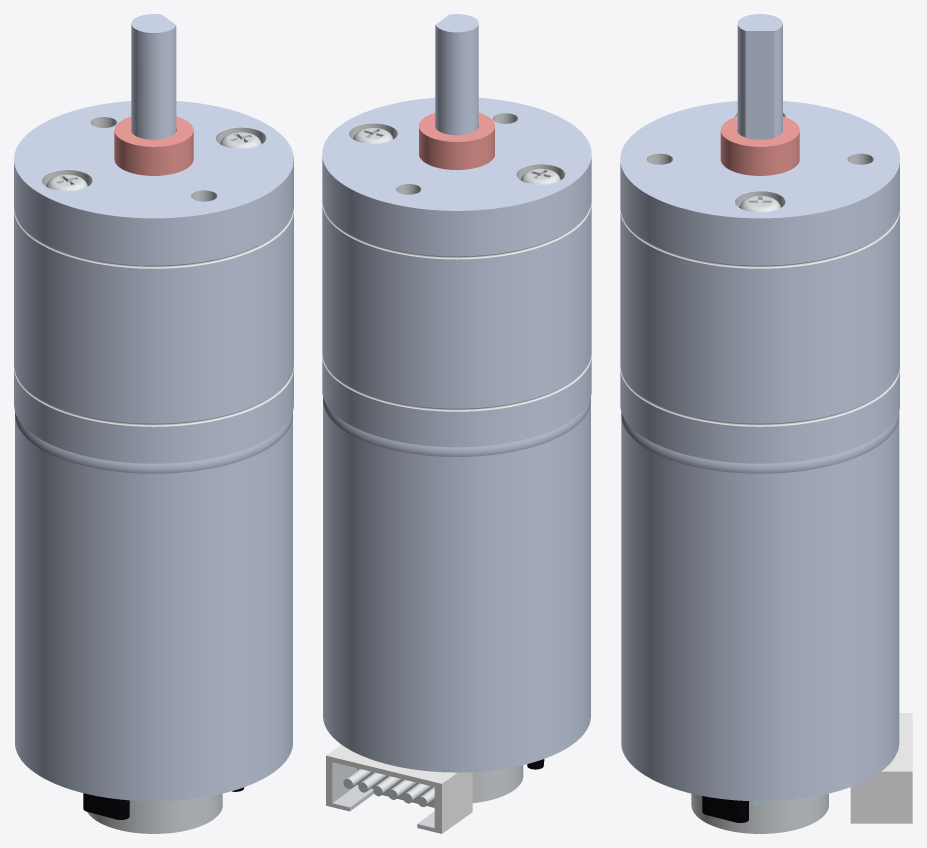
File: motor.glb
3 renders of one model, left to right at view 1: azimuth 30°, elevation 25°; view 2: azimuth 150°, elevation 25°; view 3: azimuth 270°, elevation 25°, orthographic. The views are drawn at different scales.
Bounding box in the file's own units: 0.0244 × 0.0771 × 0.0255.
